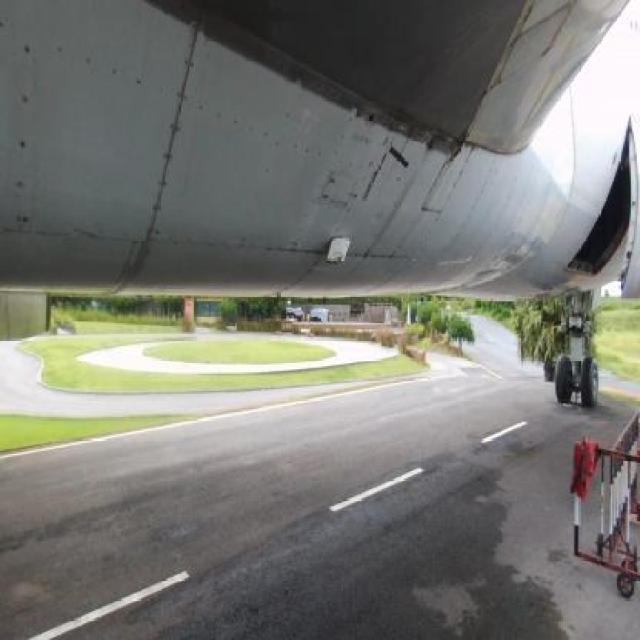Missing-Rivet: (48, 223, 300, 265), (44, 32, 144, 92), (144, 91, 184, 237), (195, 92, 288, 151), (11, 33, 38, 219), (290, 128, 378, 169), (287, 66, 350, 120), (243, 156, 275, 238), (300, 162, 328, 252), (380, 163, 438, 199)
